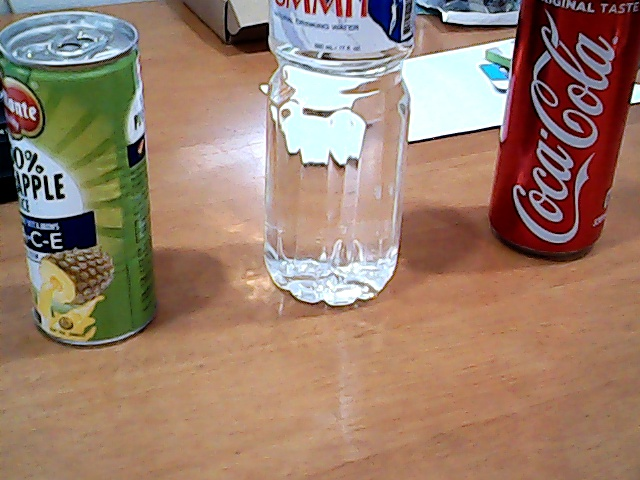Cola: (469, 1, 640, 282)
Pine Juice: (1, 1, 197, 355)
Summit Water: (239, 1, 452, 332)
